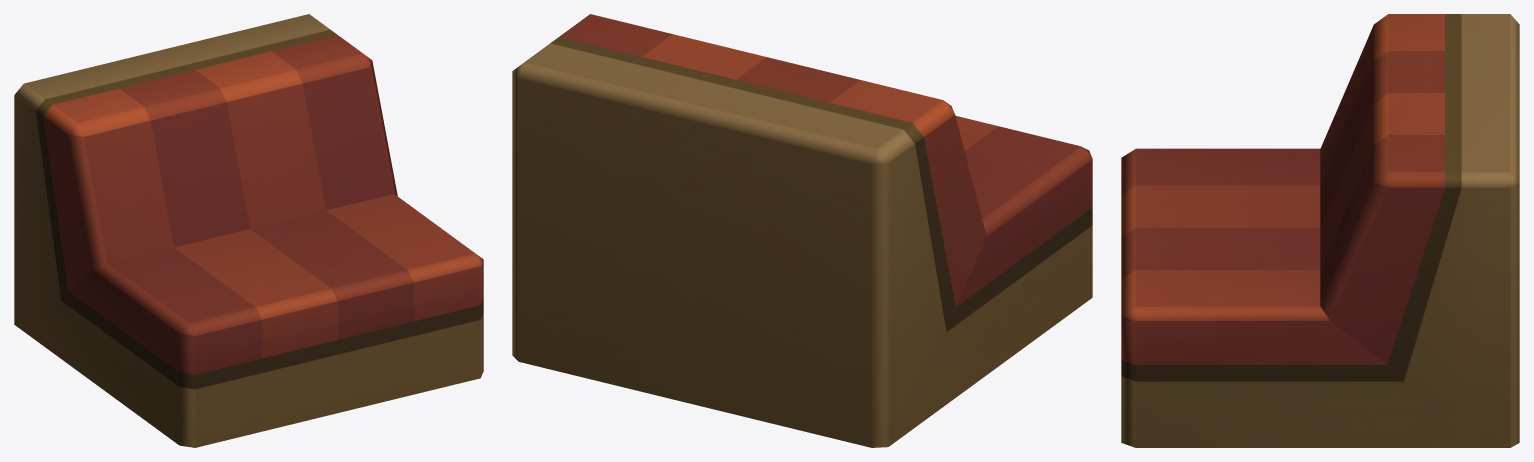
Rendered from chair_roof_x2_red.fbx.
The picture shows the model from 3 angles, left to right: view 1: azimuth 30°, elevation 25°; view 2: azimuth 150°, elevation 25°; view 3: azimuth 270°, elevation 25°; orthographic projection. The views are drawn at different scales.
Parts seen in each view (by area): view 1: chair_roof_x2_red; view 2: chair_roof_x2_red; view 3: chair_roof_x2_red.
Boxes of the visible parts, box(x1,y1,x2,y2) form: chair_roof_x2_red: box(14, 14, 483, 447); chair_roof_x2_red: box(512, 14, 1092, 447); chair_roof_x2_red: box(1121, 14, 1519, 447).
Bounding box in the file's own units: 100 × 75 × 100.
